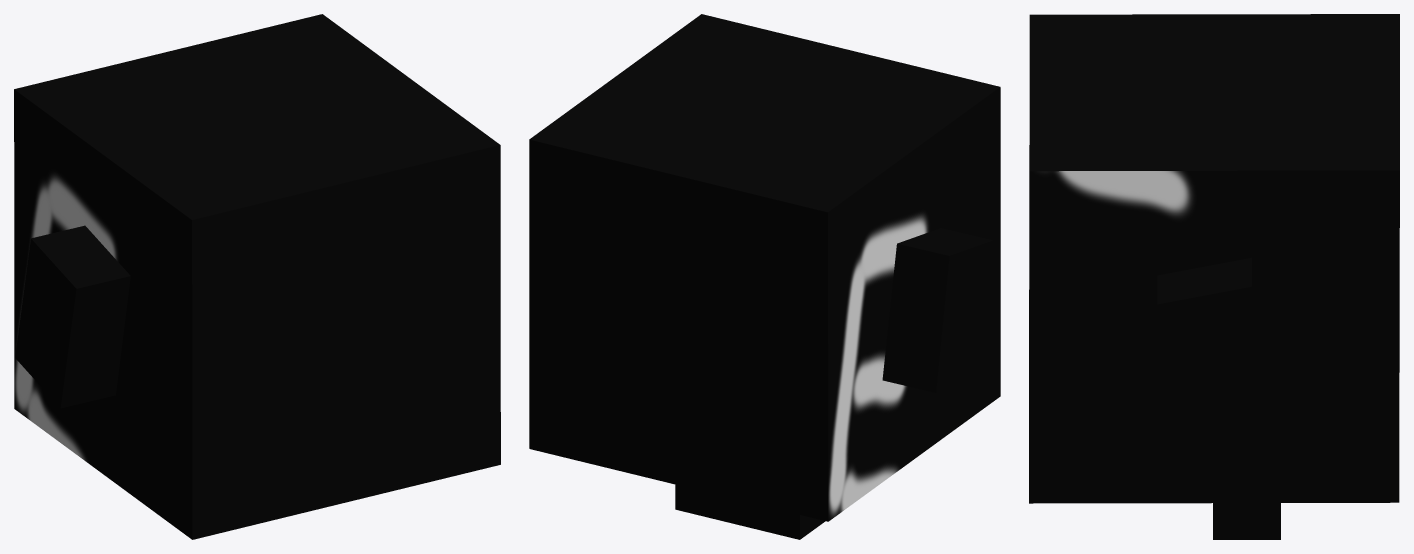
File: enemy.obj
3 views of the same model, side by side, from view 1: azimuth 30°, elevation 25°; view 2: azimuth 150°, elevation 25°; view 3: azimuth 270°, elevation 25° (orthographic). The views are drawn at different scales.
Visible parts, largest first — view 1: 立方体.003_立方体.007; view 2: 立方体.003_立方体.007; view 3: 立方体.003_立方体.007.
Boxes of the visible parts, <box> form: 立方体.003_立方体.007: <box>14,14,500,539</box>; 立方体.003_立方体.007: <box>529,14,1000,539</box>; 立方体.003_立方体.007: <box>1029,14,1399,539</box>.
Size of the model in its own units: 8.83 by 8.06 by 6.49.
1 material, 1 textured.
